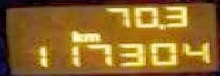0: (147, 40, 176, 65), (131, 5, 156, 28)
1: (36, 44, 47, 66), (67, 44, 78, 66)
3: (116, 41, 145, 65), (162, 5, 187, 26)
4: (180, 40, 209, 63)
7: (82, 42, 111, 65), (102, 5, 129, 28)
X: (67, 29, 82, 41), (82, 32, 100, 42), (156, 23, 165, 29)
